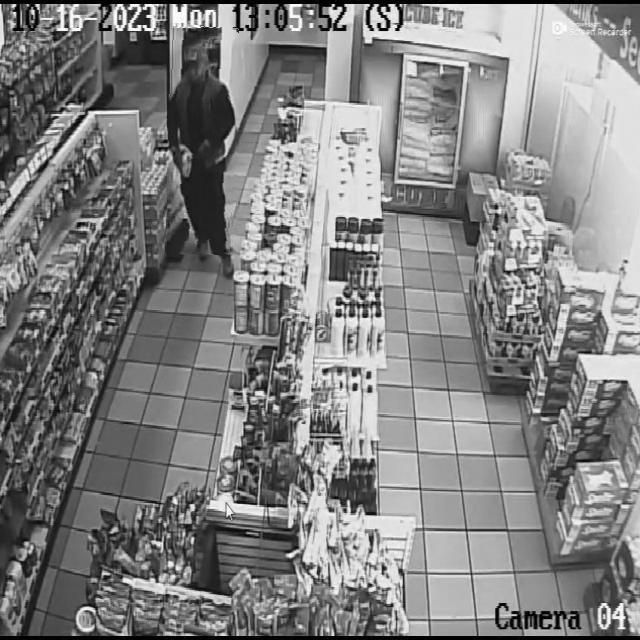Normal: (167, 26, 238, 255)
